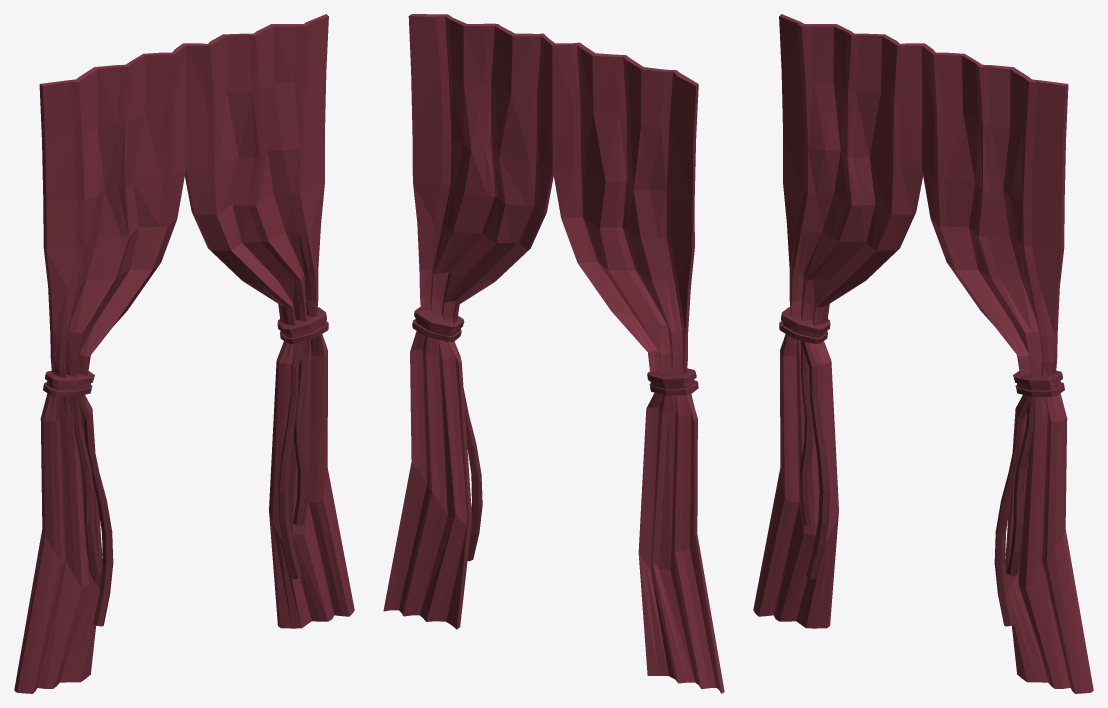
Rendered from SFHW_Curtain_S_002.fbx.
The picture shows the model from 3 angles, left to right: view 1: azimuth 30°, elevation 25°; view 2: azimuth 150°, elevation 25°; view 3: azimuth 330°, elevation 25°; orthographic projection.
Parts seen in each view (by area): view 1: SFHW_Curtain_S_002; view 2: SFHW_Curtain_S_002; view 3: SFHW_Curtain_S_002.
Part boxes in pixels (<box>): SFHW_Curtain_S_002: <box>14,14,354,693</box>; SFHW_Curtain_S_002: <box>383,14,724,693</box>; SFHW_Curtain_S_002: <box>753,14,1093,693</box>.
Size of the model in its own units: 159 by 273 by 18.77.
